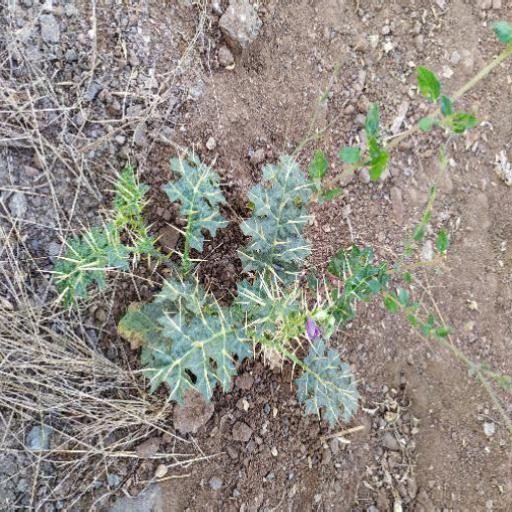weed: (56, 137, 494, 449)
